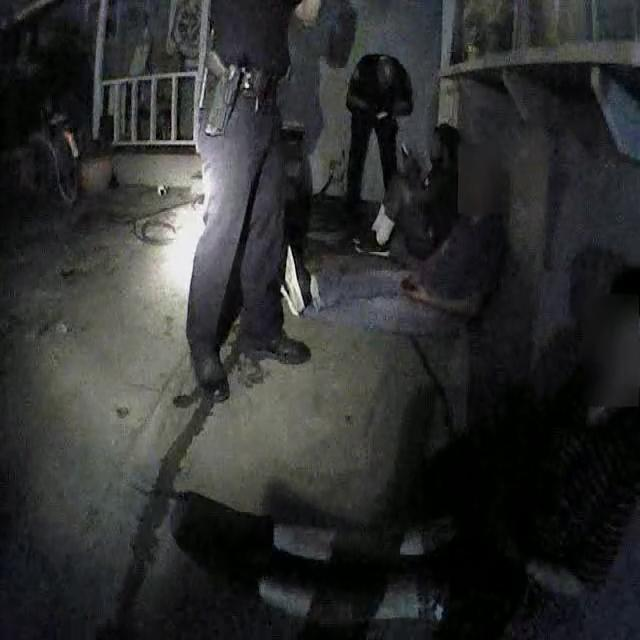gun: (192, 36, 251, 146)
